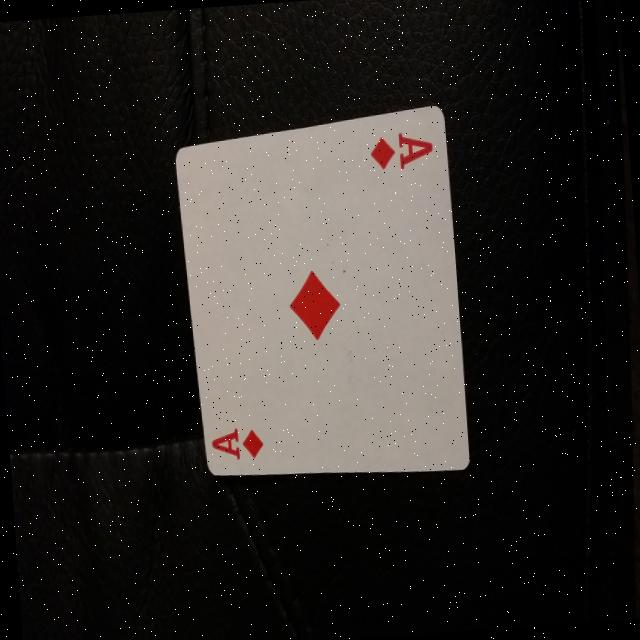Ad: (356, 120, 442, 194), (199, 408, 271, 474)
